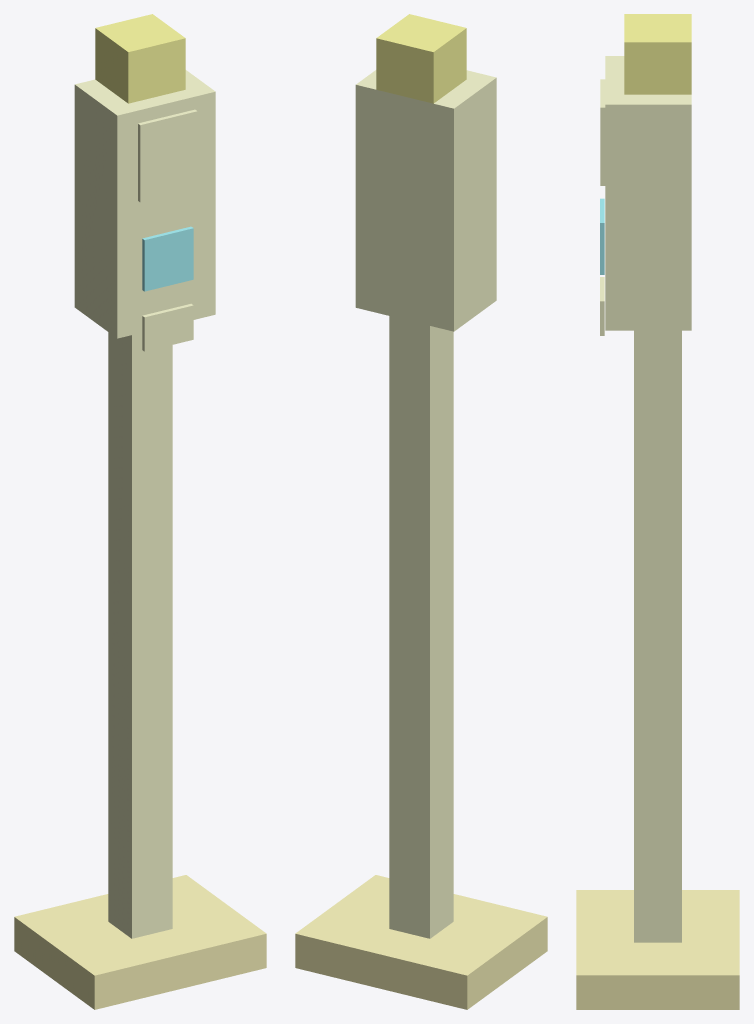
The model's file is furniture_bus_stop_help_point.glb.
3 views of the same model, side by side, from view 1: azimuth 30°, elevation 25°; view 2: azimuth 150°, elevation 25°; view 3: azimuth 270°, elevation 25° (orthographic).
Parts seen in each view (by area): view 1: post, head, base, beacon, screen, help_button, speaker_grille; view 2: post, head, base, beacon; view 3: post, head, base, beacon, screen.
Part boxes in pixels (bbox=[...]): post: bbox=[108, 332, 172, 938]; head: bbox=[74, 70, 215, 338]; base: bbox=[14, 875, 266, 1009]; beacon: bbox=[95, 14, 185, 103]; screen: bbox=[138, 109, 197, 202]; help_button: bbox=[142, 226, 193, 291]; speaker_grille: bbox=[142, 303, 193, 351]; post: bbox=[389, 316, 453, 938]; head: bbox=[355, 70, 496, 331]; base: bbox=[295, 875, 547, 1009]; beacon: bbox=[376, 14, 466, 103]; post: bbox=[634, 330, 681, 942]; head: bbox=[605, 56, 691, 330]; base: bbox=[576, 890, 739, 1009]; beacon: bbox=[624, 14, 691, 94]; screen: bbox=[600, 79, 605, 185].
Bounding box in the file's own units: 0.42 × 2.16 × 0.34.
